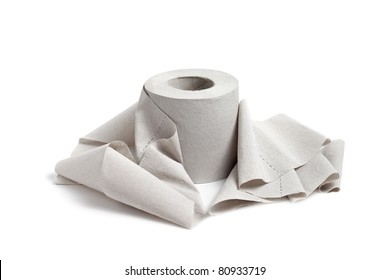Tissue: (43, 65, 346, 230)
